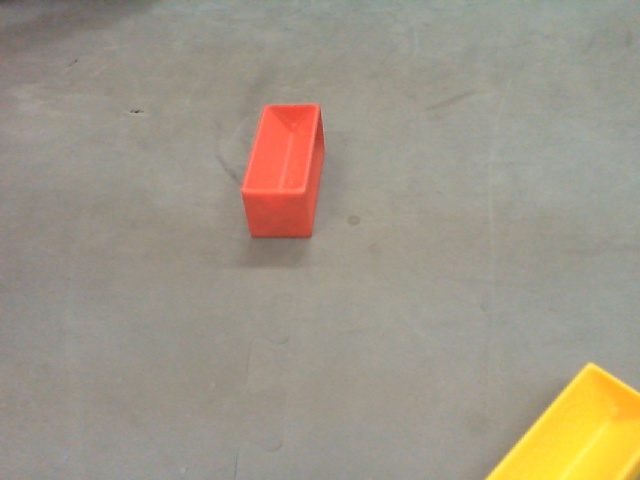RedSample: (241, 104, 327, 243)
YellowSample: (491, 358, 640, 480)
